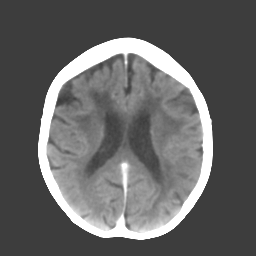ischemic: (156, 127, 194, 202)
